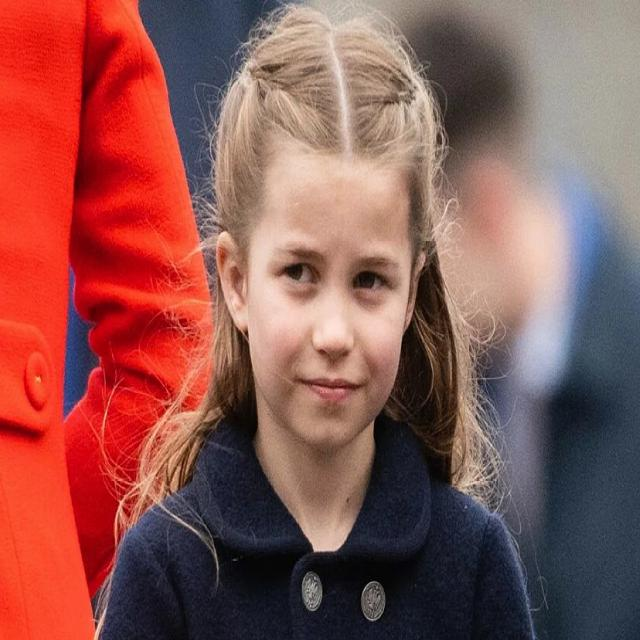child: (101, 11, 530, 640)
